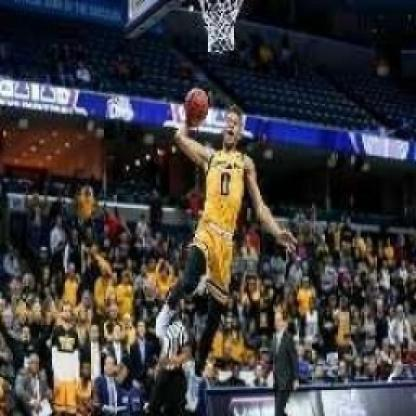basketball: (184, 89, 207, 123)
